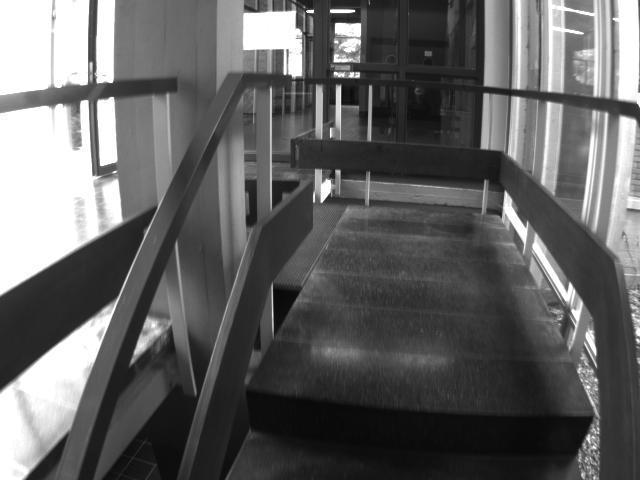Escaleras: (203, 370, 591, 476)
